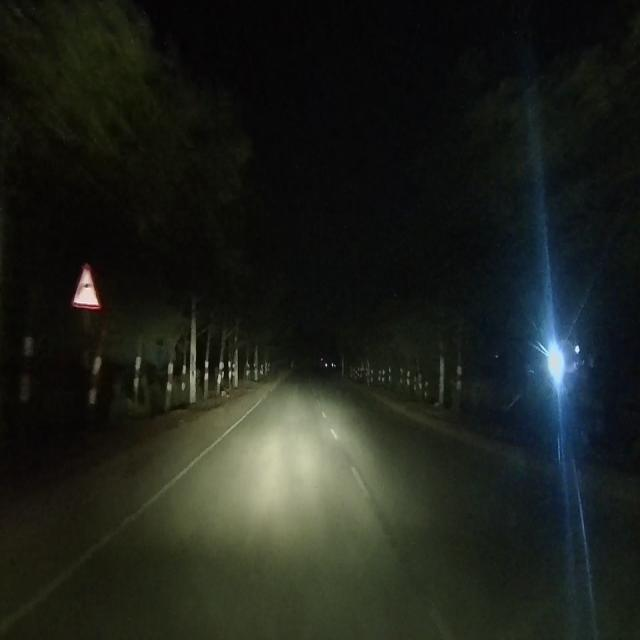right-hand-curve: (70, 260, 101, 311)
